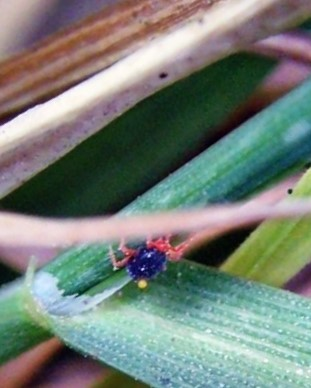Wheat Red Spider: (96, 233, 192, 293)
